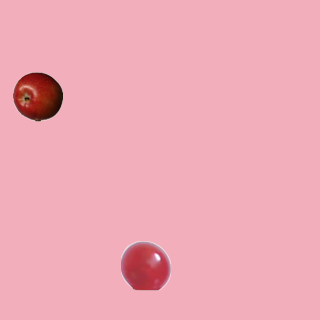Apple Braeburn: (12, 71, 62, 121)
Redcurrant: (120, 240, 170, 290)
